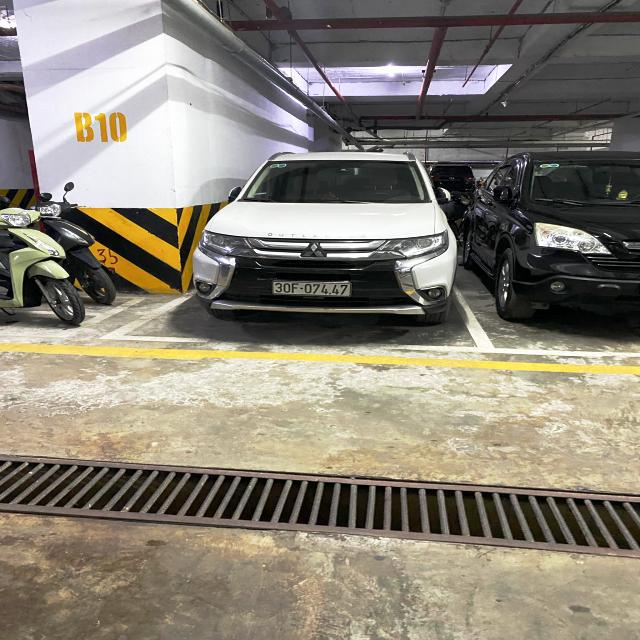license_plate: (270, 278, 357, 300)
